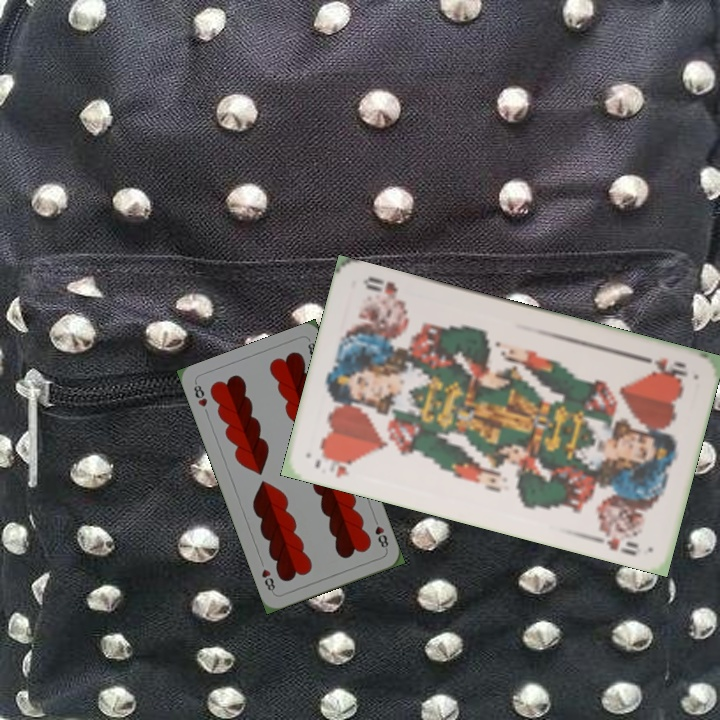H8: (370, 514, 391, 553), (190, 379, 210, 410)
HO: (636, 351, 690, 379), (311, 450, 359, 480)
